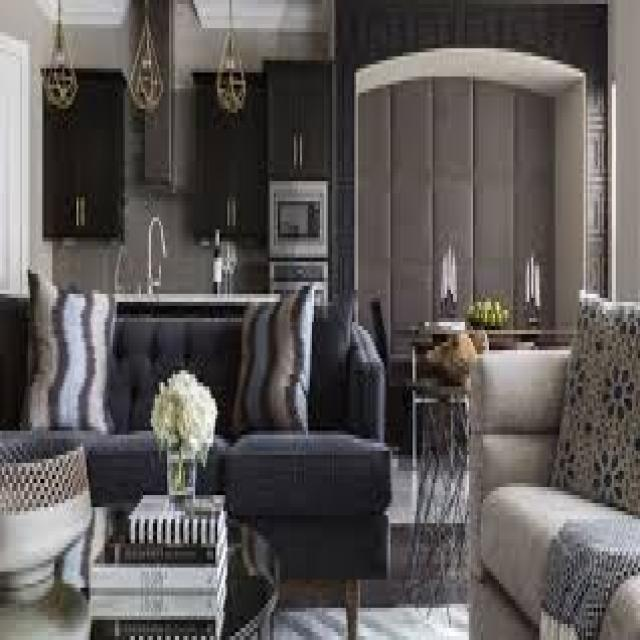Sofa: (0, 281, 396, 567), (468, 325, 640, 640)
Table: (60, 503, 296, 640)
